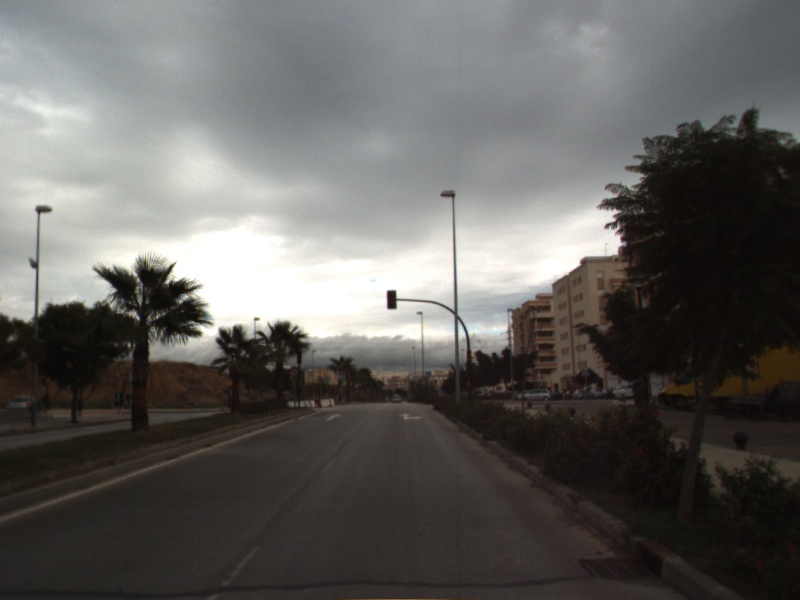STRAIGHT: (324, 411, 344, 422)
STRAIGHT_RIGHT: (398, 411, 424, 422)
